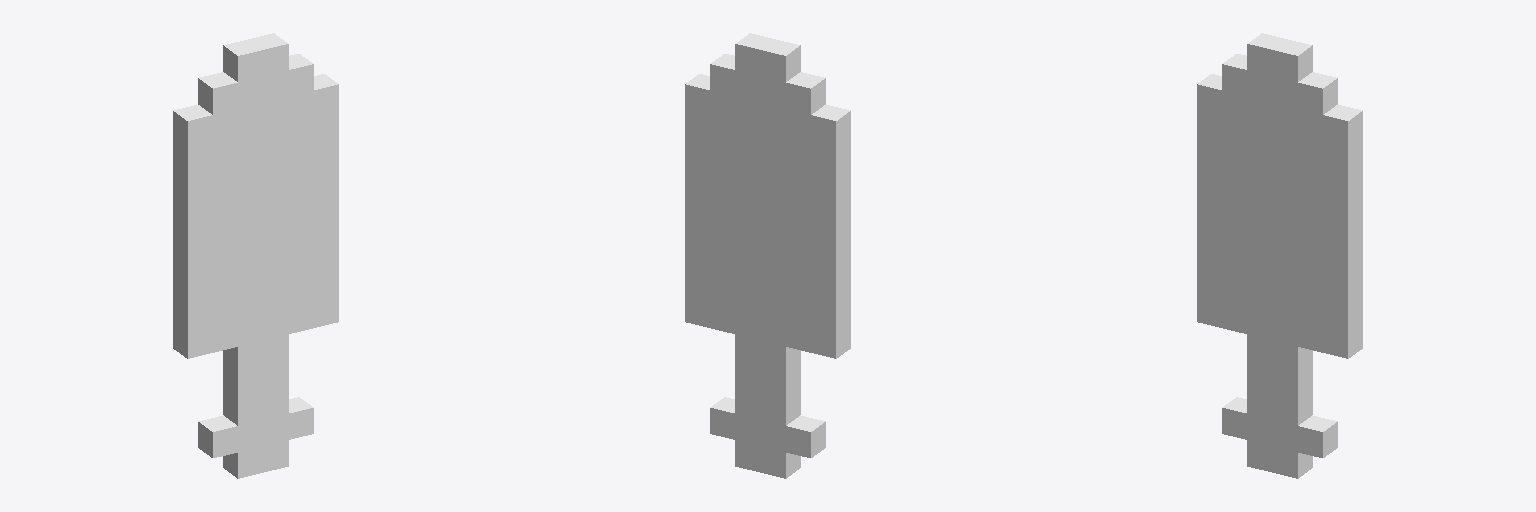
Rendered from HumanAnimation-1 1.obj.
3 renders of one model, left to right at view 1: azimuth 30°, elevation 25°; view 2: azimuth 150°, elevation 25°; view 3: azimuth 330°, elevation 25°, orthographic.
Visible parts, largest first — view 1: object 1; view 2: object 1; view 3: object 1.
Boxes of the visible parts, <box> form: object 1: <box>173,33,338,478</box>; object 1: <box>685,33,850,478</box>; object 1: <box>1197,33,1362,478</box>.
Bounding box in the file's own units: 0.6 × 1.6 × 0.1.